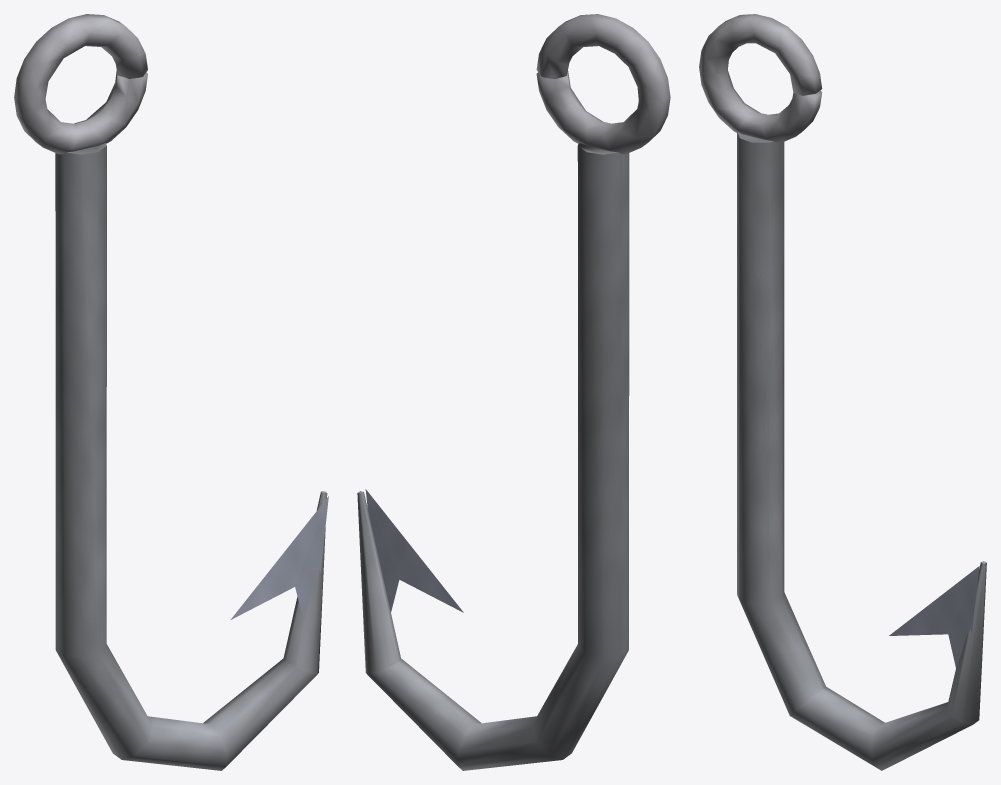
Rendered from fishing_hook.glb.
3 views of the same model, side by side, from view 1: azimuth 30°, elevation 25°; view 2: azimuth 150°, elevation 25°; view 3: azimuth 330°, elevation 25° (orthographic). The views are drawn at different scales.
Parts seen in each view (by area): view 1: Body; view 2: Body; view 3: Body.
Boxes of the visible parts, box(x1,y1,x2,y2) form: Body: box(14, 14, 328, 770); Body: box(357, 14, 670, 770); Body: box(699, 14, 986, 770).
Bounding box in the file's own units: 0.1093 × 0.2647 × 0.0158.
1 material, 1 textured.
